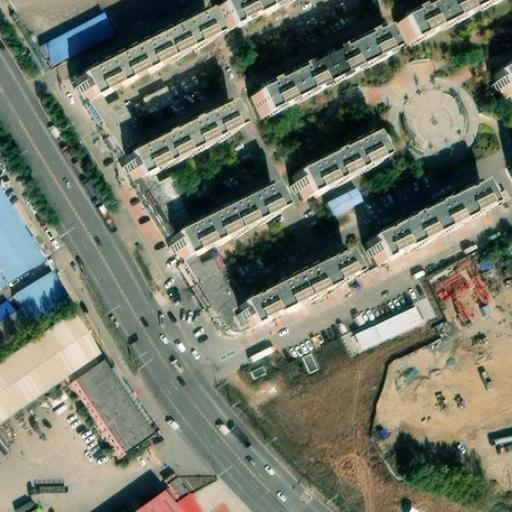building: (251, 32, 389, 118), (76, 14, 213, 100), (0, 311, 104, 422), (364, 184, 493, 265), (235, 253, 359, 331), (125, 105, 243, 182), (71, 357, 157, 455), (173, 189, 283, 261), (290, 137, 382, 200), (88, 88, 148, 179), (185, 249, 247, 335), (137, 170, 196, 260), (346, 300, 436, 359), (40, 11, 116, 67), (400, 0, 497, 43), (10, 271, 70, 328), (122, 473, 209, 511), (214, 0, 283, 29), (324, 188, 363, 218), (491, 63, 512, 99)
